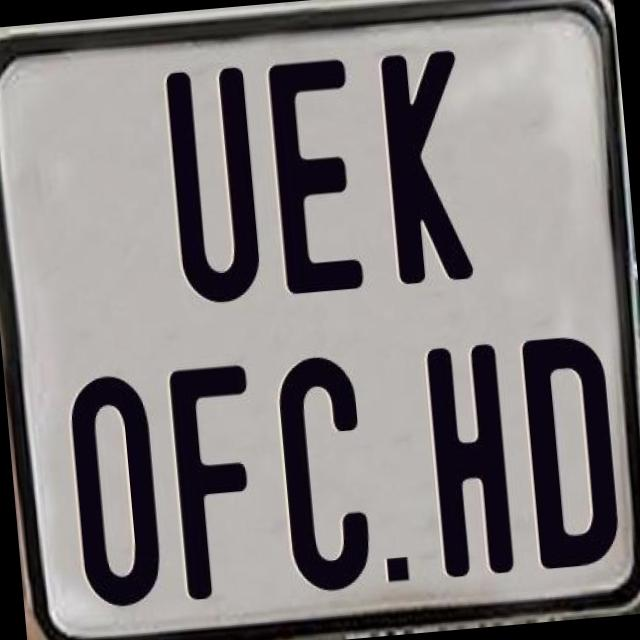0: (64, 368, 165, 608)
C: (274, 354, 378, 600)
D: (519, 332, 622, 577)
E: (267, 56, 372, 294)
F: (166, 362, 272, 606)
H: (425, 338, 520, 572)
K: (376, 48, 474, 290)
U: (160, 62, 267, 310)
